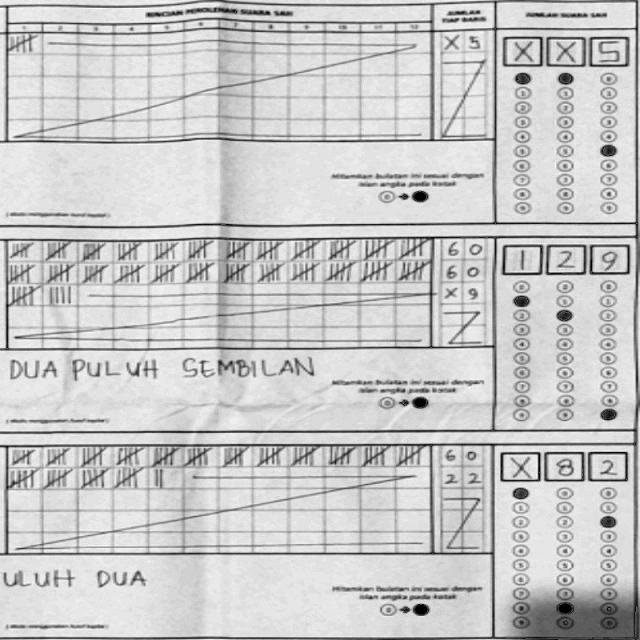Suara: (500, 240, 626, 279), (498, 29, 628, 66), (496, 448, 630, 482)
